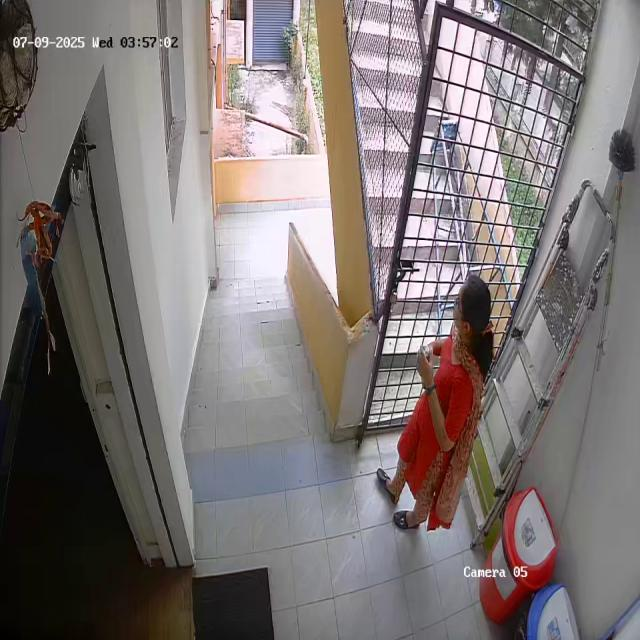person: (374, 270, 499, 538)
